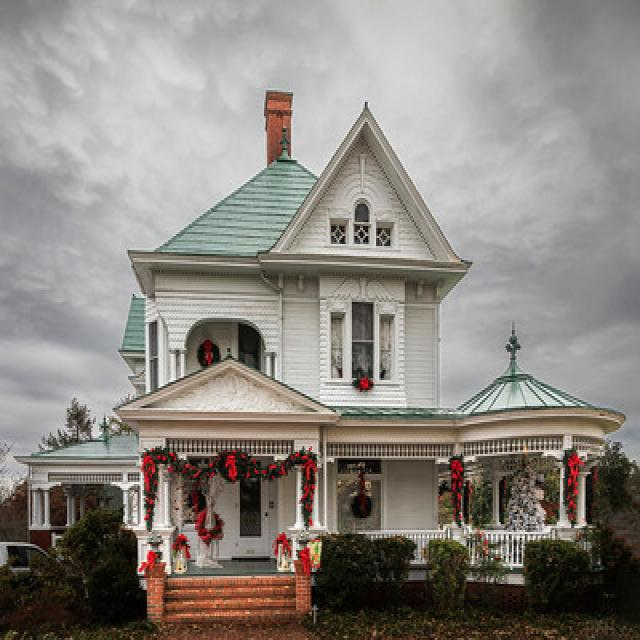Normal_building: (18, 85, 630, 625)
